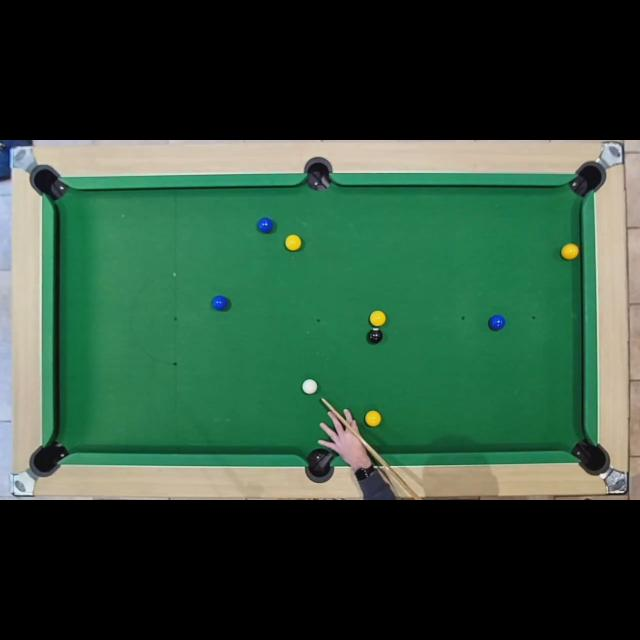Ball: (561, 243, 579, 259), (285, 235, 303, 251), (365, 411, 381, 427), (489, 315, 505, 331), (370, 311, 386, 327), (302, 378, 318, 394), (212, 296, 226, 312), (258, 218, 274, 232), (368, 328, 382, 342)
